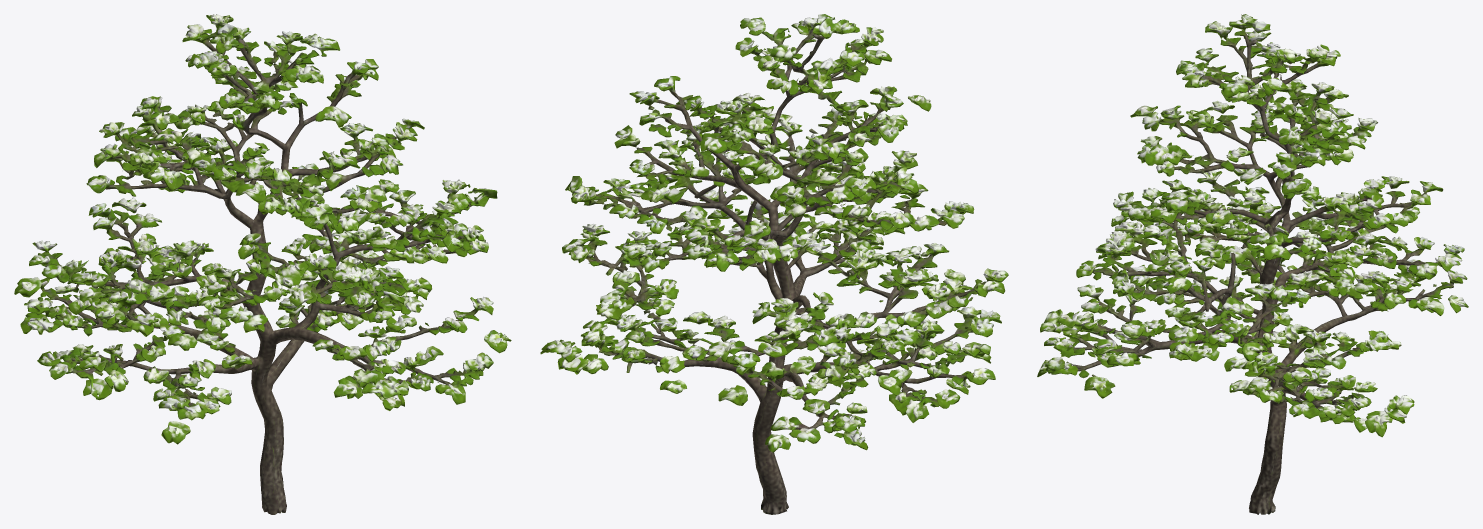
The model's file is tree_06_white_blossom.glb.
3 renders of one model, left to right at view 1: azimuth 30°, elevation 25°; view 2: azimuth 150°, elevation 25°; view 3: azimuth 270°, elevation 25°, orthographic. The views are drawn at different scales.
Parts seen in each view (by area): view 1: world; view 2: world; view 3: world.
Part boxes in pixels (x1,y1,x2,y2): world: (14,14,511,514); world: (540,14,1008,514); world: (1037,14,1468,514).
Size of the model in its own units: 0.9206 by 1 by 0.8373.
1 material, 1 textured.
